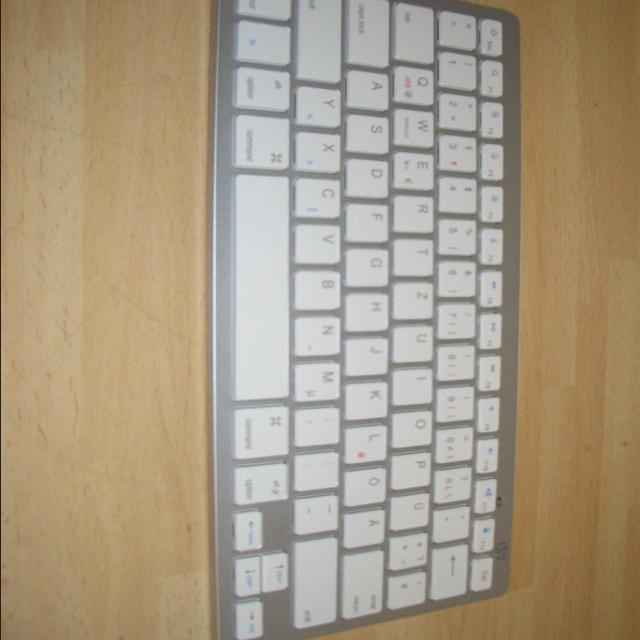0: (438, 424, 476, 462)
1: (440, 50, 480, 88)
2: (440, 92, 480, 130)
3: (440, 133, 480, 171)
4: (440, 175, 480, 212)
5: (439, 217, 479, 255)
6: (439, 259, 479, 297)
7: (439, 301, 479, 338)
8: (438, 343, 478, 380)
9: (438, 384, 478, 421)
a: (348, 69, 392, 109)
accent: (435, 505, 473, 541)
ae: (344, 507, 388, 547)
alt-left: (236, 65, 294, 111)
altgr-right: (235, 461, 292, 505)
b: (296, 267, 344, 309)
c: (296, 176, 344, 218)
caret: (440, 9, 480, 47)
comma: (296, 405, 343, 446)
d: (347, 156, 393, 196)
del: (433, 543, 471, 598)
e: (395, 150, 438, 189)
enter: (343, 549, 387, 619)
f: (348, 201, 392, 241)
g: (347, 246, 392, 286)
h: (347, 290, 392, 330)
hash: (389, 571, 429, 609)
i: (394, 366, 436, 404)
j: (347, 335, 391, 375)
k: (346, 379, 391, 419)
keyboard: (210, 0, 525, 640)
l: (346, 424, 390, 463)
m: (296, 359, 344, 400)
minus: (295, 492, 341, 534)
n: (295, 314, 343, 356)
o: (393, 408, 435, 446)
oe: (345, 466, 389, 505)
p: (392, 451, 434, 488)
plus: (391, 532, 431, 569)
point: (296, 450, 342, 490)
q: (395, 64, 437, 104)
r: (394, 193, 437, 232)
s: (347, 112, 392, 152)
shift-left: (298, 0, 346, 82)
shift-lock: (348, 0, 393, 66)
shift-right: (295, 536, 341, 628)
space: (235, 172, 293, 400)
ss: (436, 466, 474, 502)
strg-left: (235, 0, 294, 21)
t: (395, 237, 437, 275)
tab: (396, 0, 438, 62)
u: (394, 322, 437, 362)
ue: (392, 491, 433, 529)
v: (296, 222, 343, 264)
w: (395, 106, 438, 146)
x: (296, 130, 343, 172)
y: (297, 84, 344, 126)
z: (395, 279, 437, 319)
